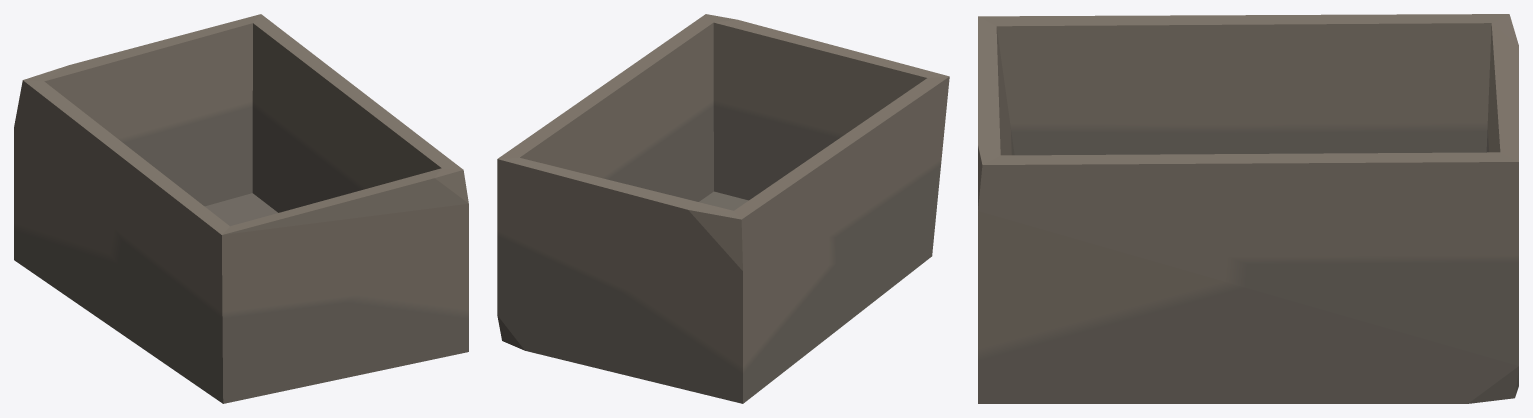
Rendered from SM_Prop_Cardboard_Box_04.fbx.
3 renders of one model, left to right at view 1: azimuth 30°, elevation 25°; view 2: azimuth 150°, elevation 25°; view 3: azimuth 270°, elevation 25°, orthographic. The views are drawn at different scales.
Visible parts, largest first — view 1: SM_Prop_Cardboard_Box_04; view 2: SM_Prop_Cardboard_Box_04; view 3: SM_Prop_Cardboard_Box_04.
Part boxes in pixels (x1,y1,x2,y2): SM_Prop_Cardboard_Box_04: (14, 14, 468, 403); SM_Prop_Cardboard_Box_04: (497, 14, 949, 403); SM_Prop_Cardboard_Box_04: (978, 14, 1518, 403).
Bounding box in the file's own units: 50 × 35.96 × 72.82.
